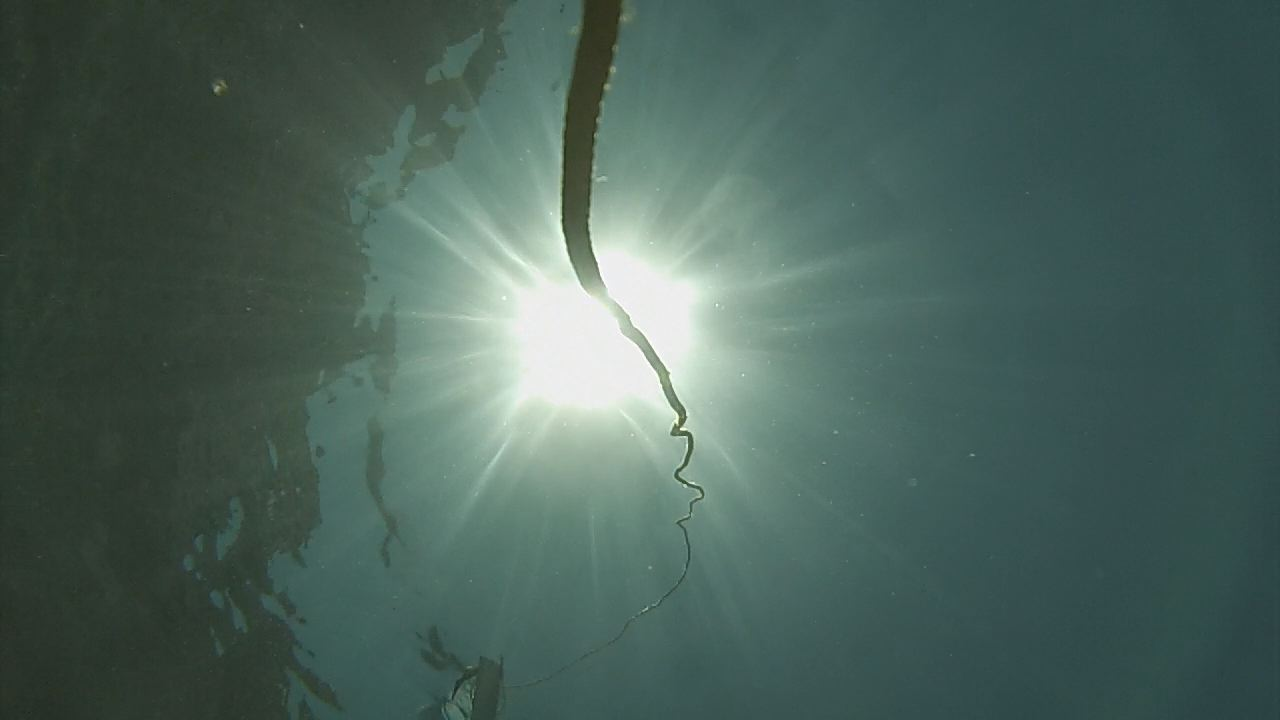pelagia: (204, 73, 233, 102)
